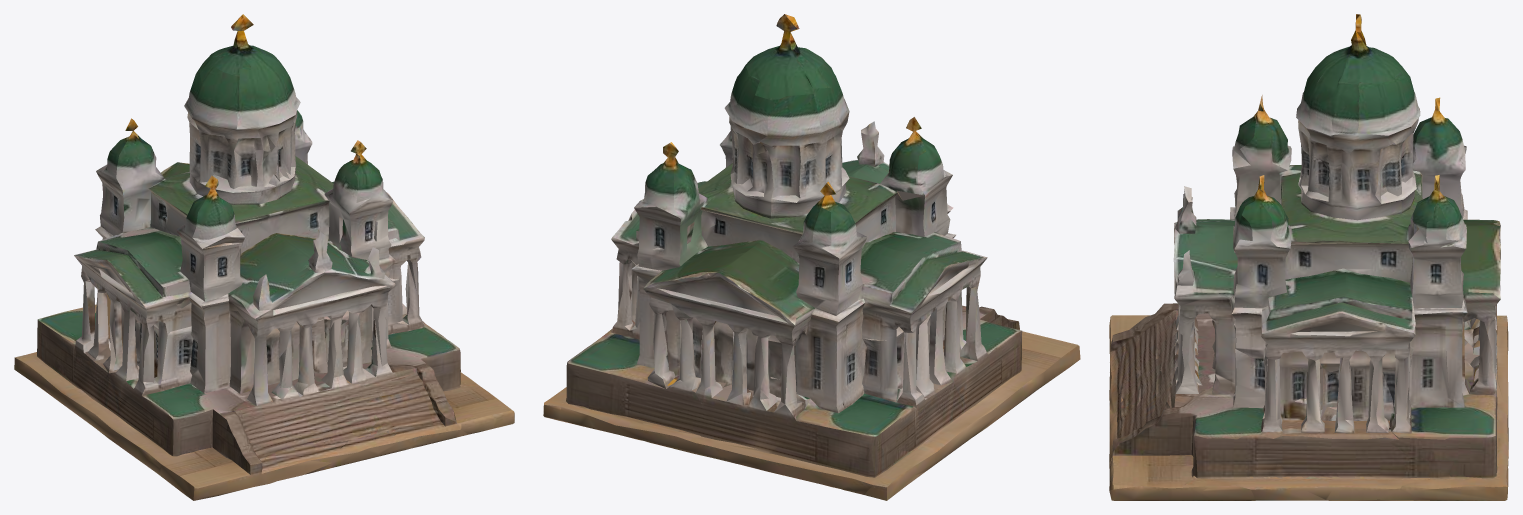
Rendered from helsinki-cathedral.glb.
3 views of the same model, side by side, from view 1: azimuth 30°, elevation 25°; view 2: azimuth 150°, elevation 25°; view 3: azimuth 270°, elevation 25° (orthographic). The views are drawn at different scales.
Visible parts, largest first — view 1: logan-textured.obj; view 2: logan-textured.obj; view 3: logan-textured.obj.
Boxes of the visible parts, x1,y1,x2,y2 form: logan-textured.obj: (14,14,514,500); logan-textured.obj: (543,14,1080,500); logan-textured.obj: (1109,14,1508,500).
Size of the model in its own units: 0.9235 by 1 by 0.9011.
1 material, 1 textured.
